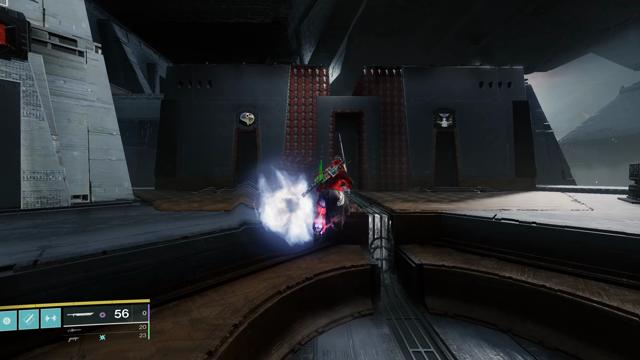brain: (238, 110, 256, 126)
drink: (436, 112, 453, 128)
stop: (0, 18, 17, 55)
